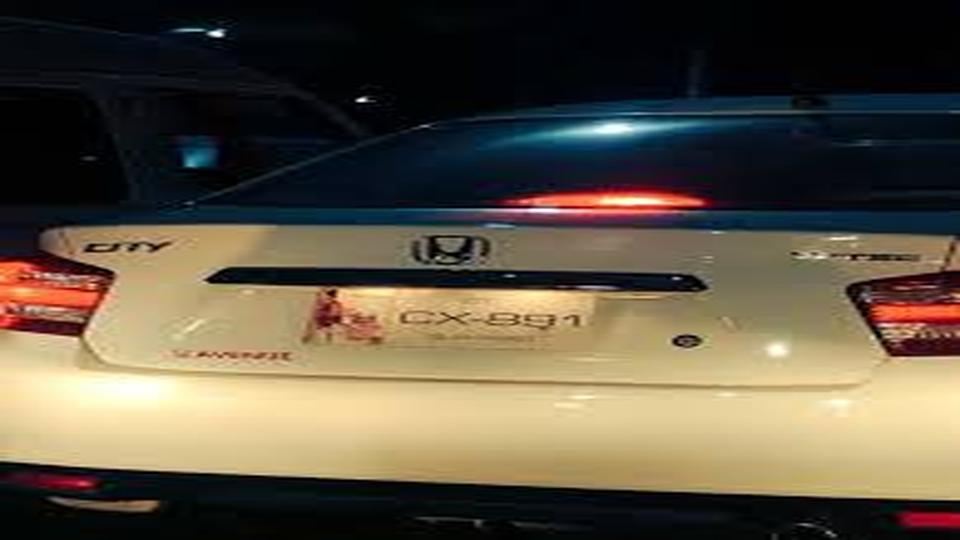NumberPlate: (306, 279, 609, 356)
